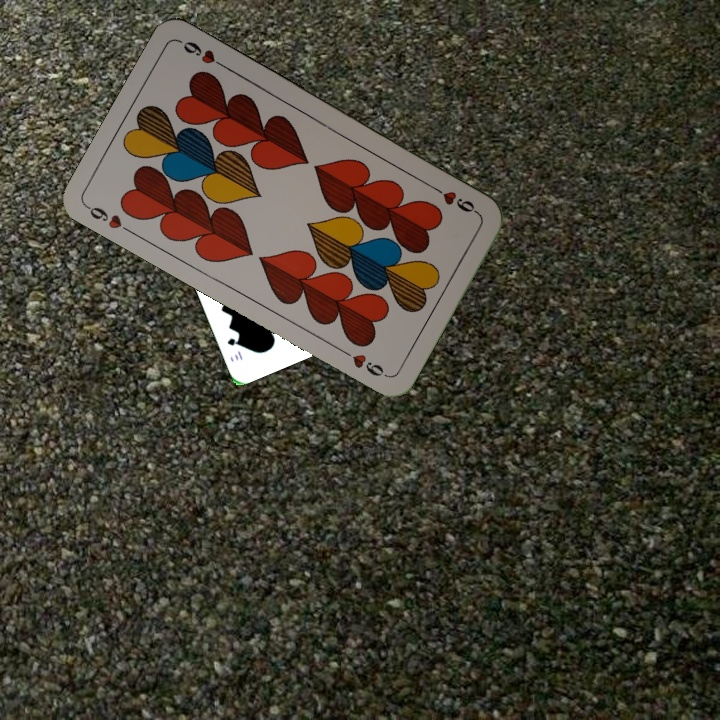H9: (427, 181, 481, 217), (82, 201, 136, 237)
